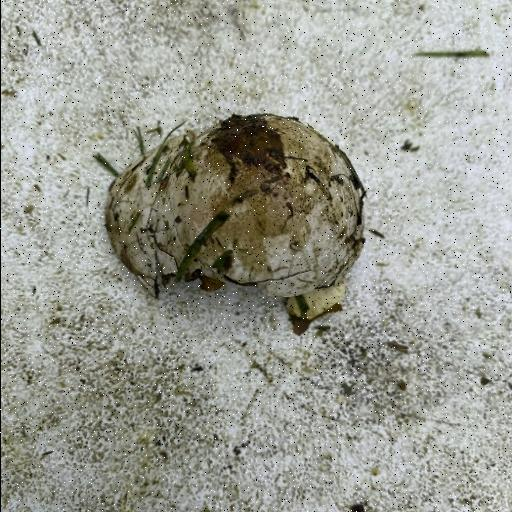Waste: (102, 110, 368, 304)
